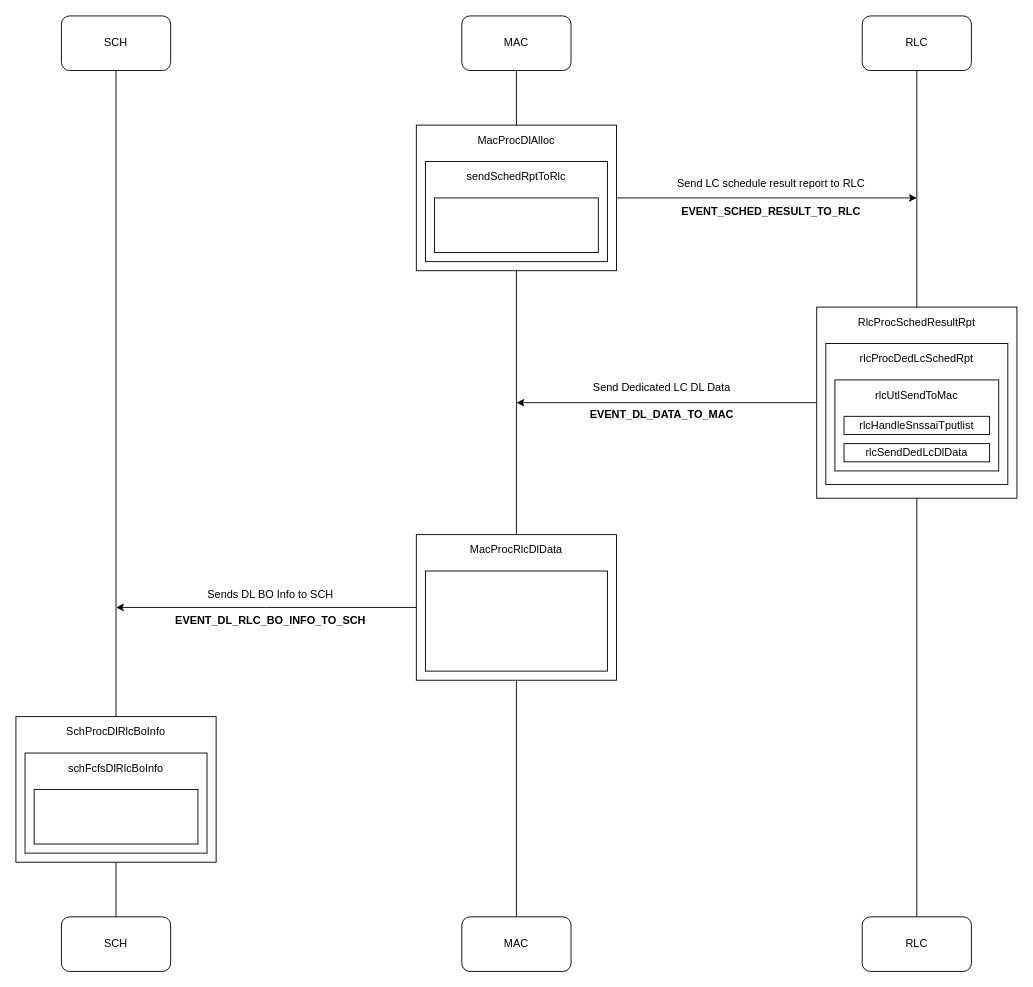
The diagram is 1033 pixels wide and 987 high, and some of its shapes have lost their labels. Each missing label, with the centre of its shape:
MacSendSchedResultRptToRlc: the point at 516,225
schFcfsAddUeToSchedule: the point at 115,816
sendDlRlcBoInfoToSch: the point at 516,620
